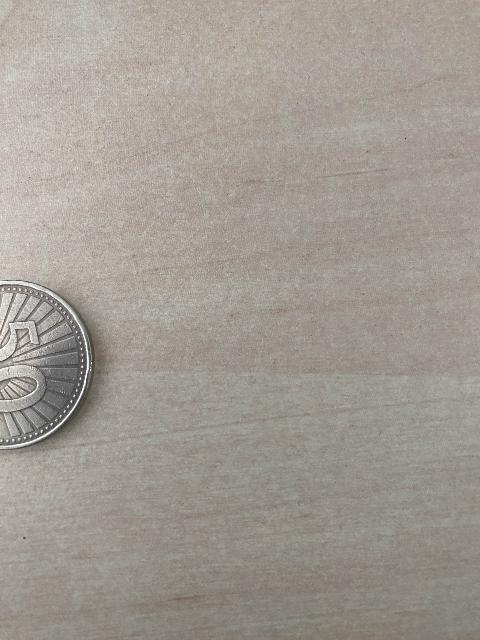50_coin: (0, 280, 92, 449)
